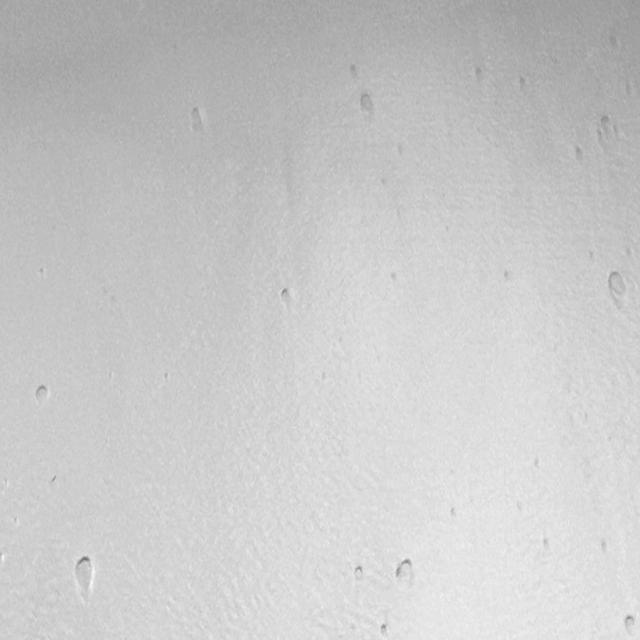pin holes: (69, 553, 96, 600), (604, 271, 632, 310), (184, 108, 209, 140), (391, 556, 416, 586), (274, 282, 297, 312), (596, 115, 618, 146), (355, 90, 377, 119), (620, 612, 638, 640), (351, 563, 371, 587), (470, 66, 490, 90), (33, 385, 52, 409), (605, 32, 624, 56), (570, 146, 588, 169), (540, 535, 554, 556), (389, 268, 402, 288), (597, 538, 610, 557), (623, 82, 636, 101), (505, 266, 518, 285), (347, 62, 361, 79), (516, 76, 529, 94), (378, 622, 392, 638), (446, 505, 459, 522), (38, 264, 50, 282), (49, 473, 61, 490), (535, 453, 543, 472), (2, 476, 12, 491), (12, 514, 22, 527), (0, 550, 7, 566)
